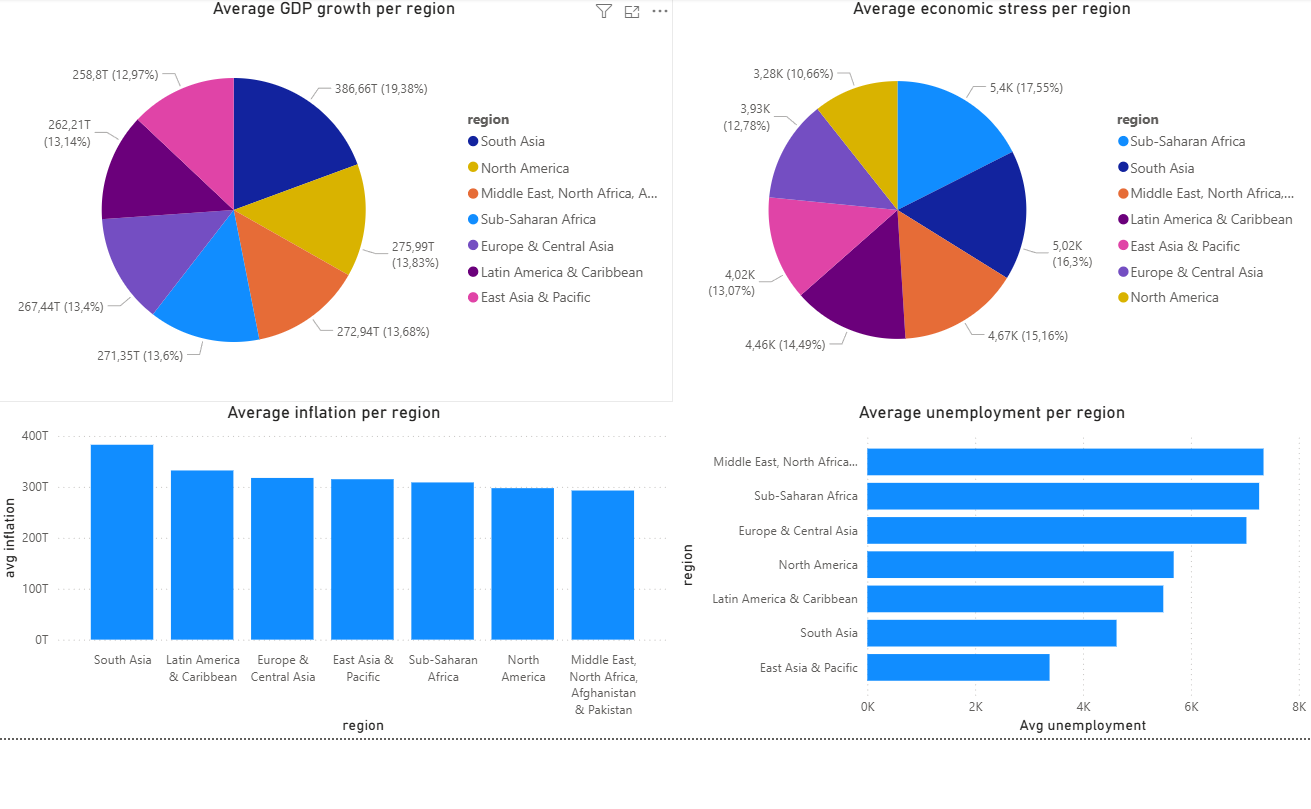

This screenshot's page, from the dashboard's own definition file:
{"tool":"powerbi","page":{"name":"Regional Analysis","canvas":[1280,720],"ordinal":1},"visuals":[{"type":"pieChart","fields":{"Category":["country_year_indicators.region"],"Y":["country_year_indicators.Average GDP growth"]},"box":[0,0,659.4,393.4],"z":0},{"type":"columnChart","title":"Average inflation per region","fields":{"Y":["country_year_indicators.avg inflation"],"Category":["country_year_indicators.region"]},"box":[0,393.4,659.4,327.1],"z":1000},{"type":"barChart","title":"Average unemployment per region","fields":{"Category":["country_year_indicators.region"],"Y":["country_year_indicators.Avg unemployment"]},"box":[659.4,393.4,620.6,327.1],"z":2000},{"type":"pieChart","title":"Average economic stress per region","fields":{"Category":["country_year_indicators.region"],"Y":["country_year_indicators.Avg economic stress"]},"box":[659.4,0,620.6,393.4],"z":3000}]}

Visuals, with their boxes on the page's 1280x720 design canvas (x1, y1, x2, y2). These are canvas units, not pixel positions in the 1311x809 screenshot, which may show the page scaled, cropped or inside an application window:
pieChart - country_year_indicators.region x country_year_indicators.Average GDP growth: {"x1": 0, "y1": 0, "x2": 659, "y2": 393}
"Average inflation per region" columnChart: {"x1": 0, "y1": 393, "x2": 659, "y2": 720}
"Average unemployment per region" barChart: {"x1": 659, "y1": 393, "x2": 1280, "y2": 720}
"Average economic stress per region" pieChart: {"x1": 659, "y1": 0, "x2": 1280, "y2": 393}
